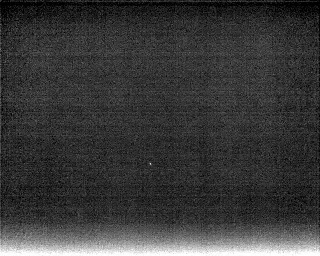BIRD: (147, 159, 154, 168)
